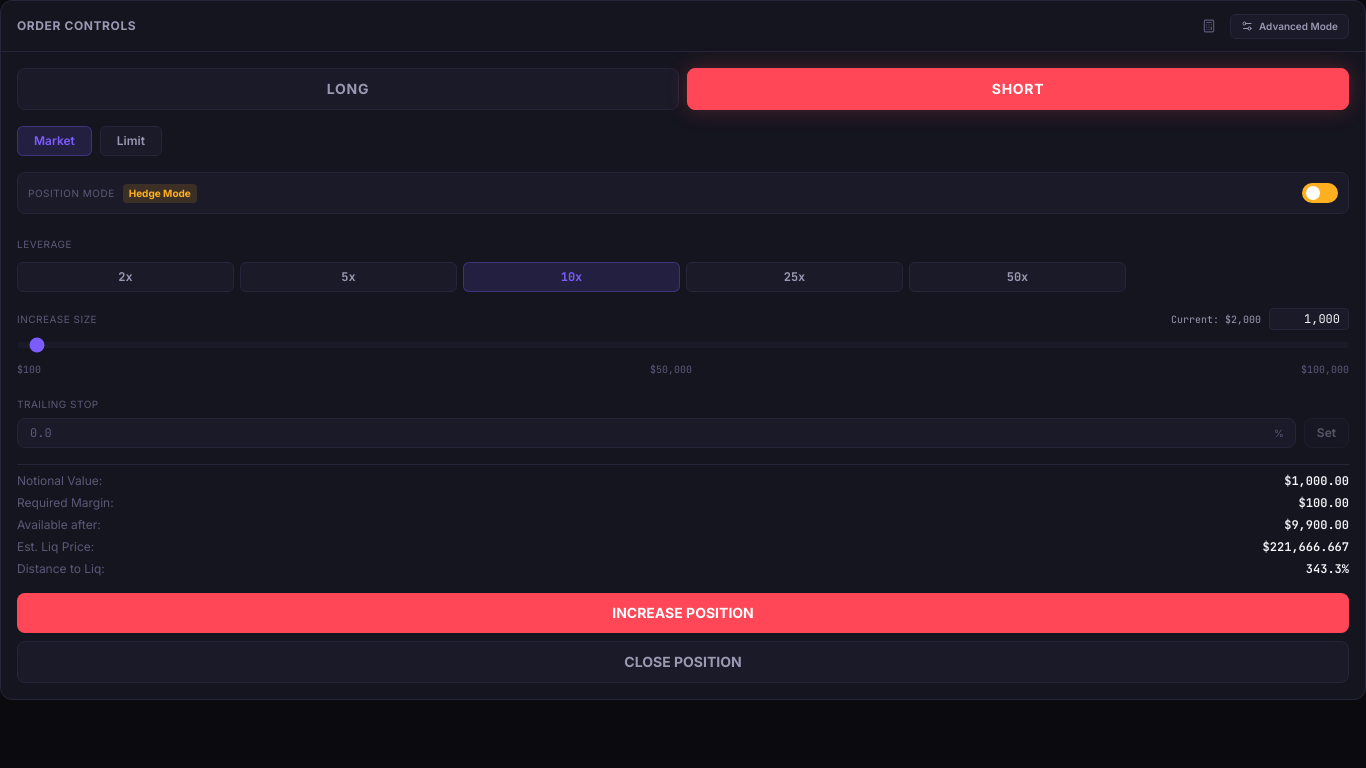
Test: TradeControls — hedge mode and side preservation › button changes from FLIP to REDUCE when slider drops below position size
Click the button "LONG" at (348, 89), box top-left (17, 68), bottom-right (679, 110)
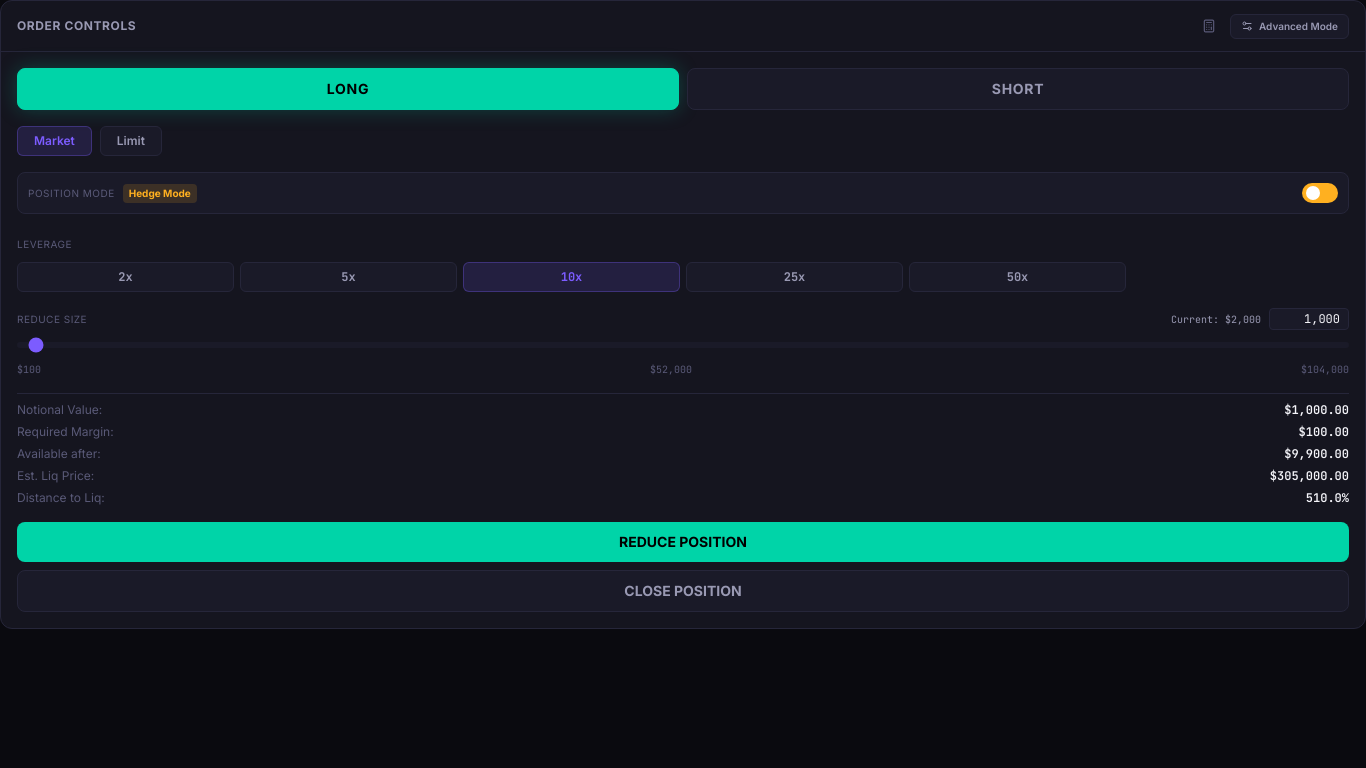
Set the slider to "3000" at (62, 345), box top-left (17, 342), bottom-right (1349, 348)
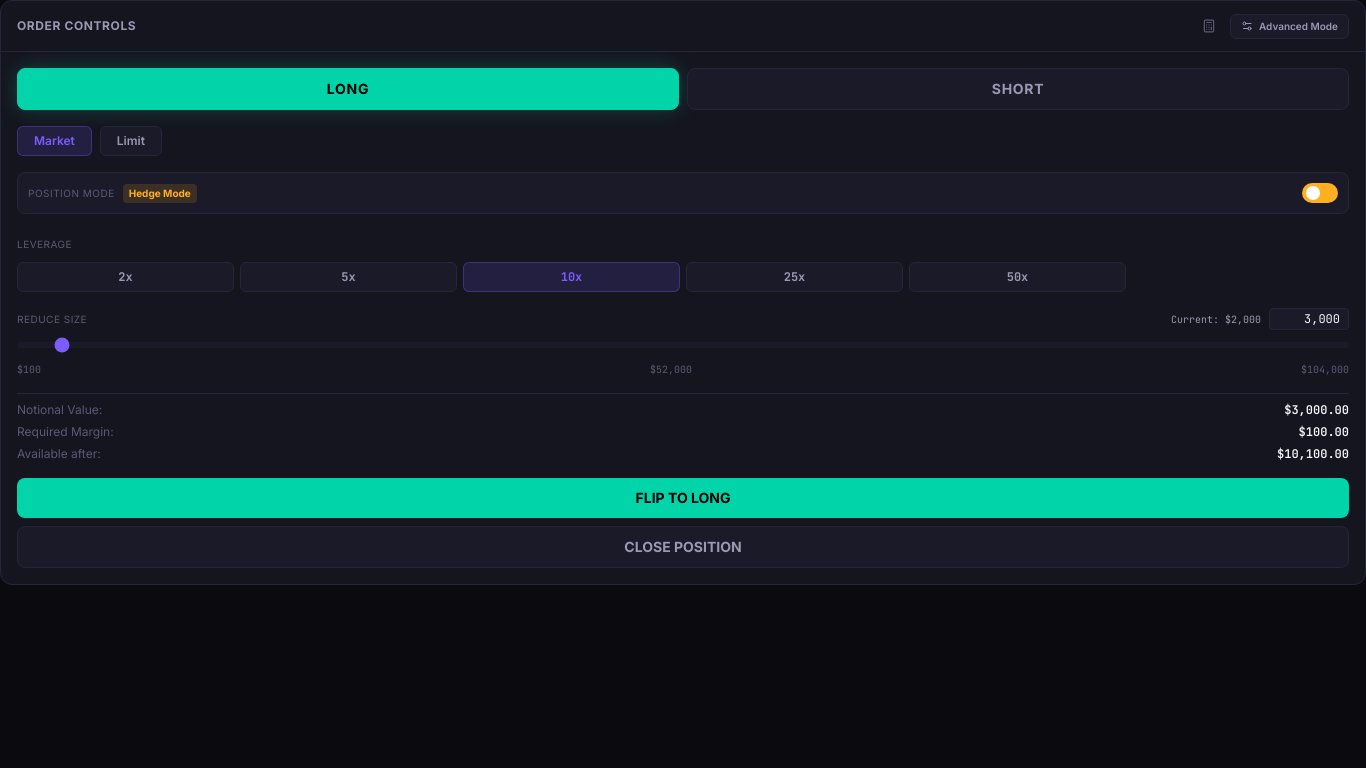
Expected: the button "FLIP TO LONG" is shown, top-left (17, 478), bottom-right (1349, 518)
Set the slider to "1000" at (36, 345), box top-left (17, 342), bottom-right (1349, 348)
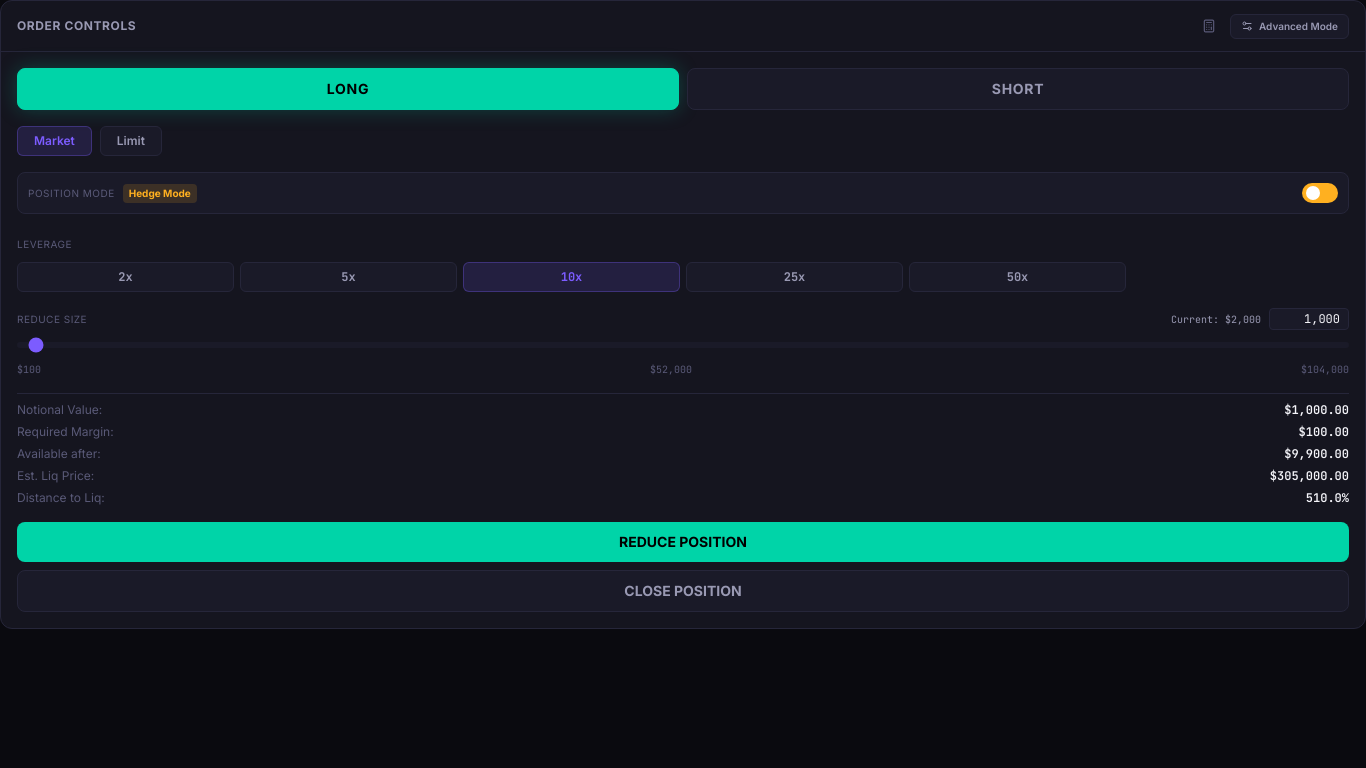
Expected: the button "REDUCE POSITION" is shown, top-left (17, 522), bottom-right (1349, 562)
Expected: the button "FLIP TO LONG" is gone
